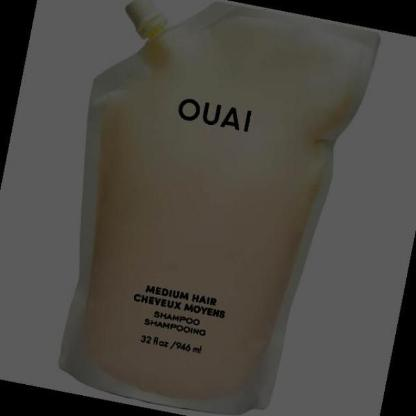Plastic Packaging: (59, 0, 381, 416)
